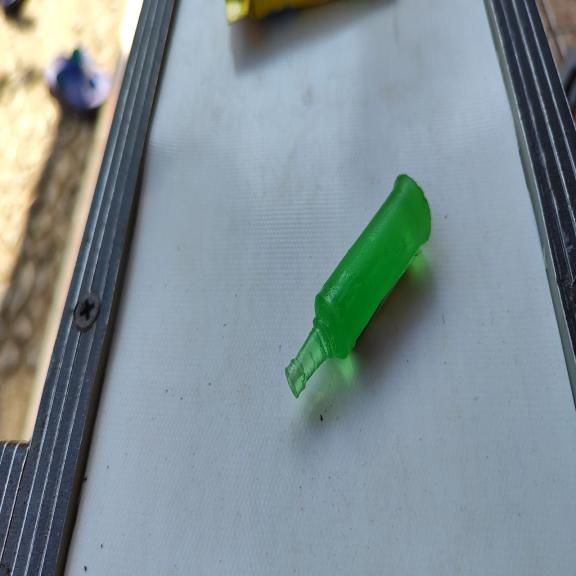Plastik: (284, 172, 434, 400)
